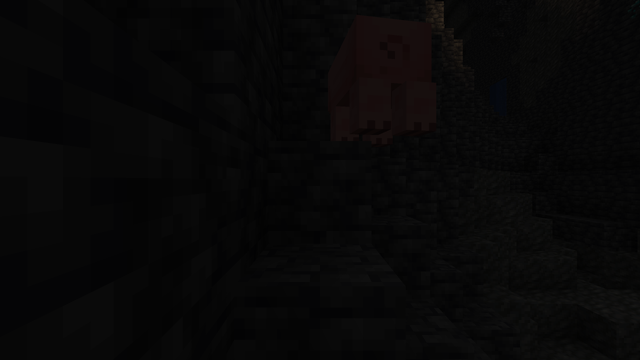cochons: (324, 19, 438, 146)
